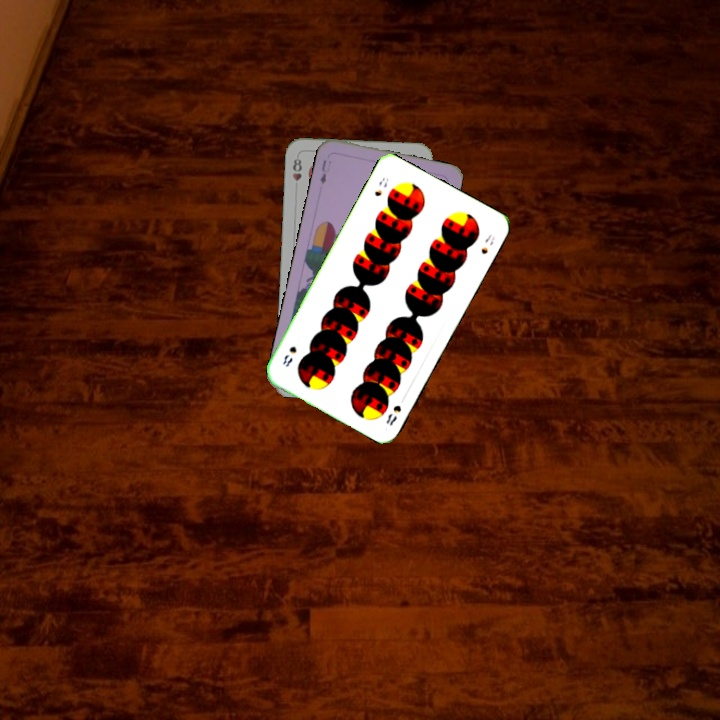EU: (316, 156, 333, 187)
H8: (288, 154, 304, 183)
S8: (382, 401, 404, 428), (370, 173, 391, 199)
